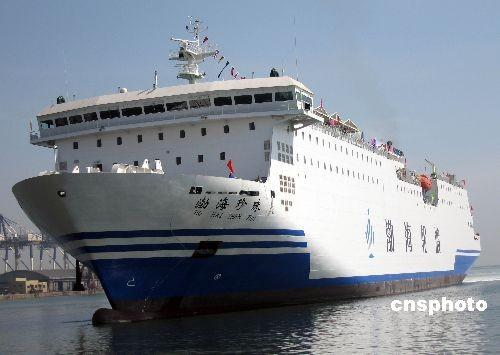youlun: (11, 64, 484, 317)
